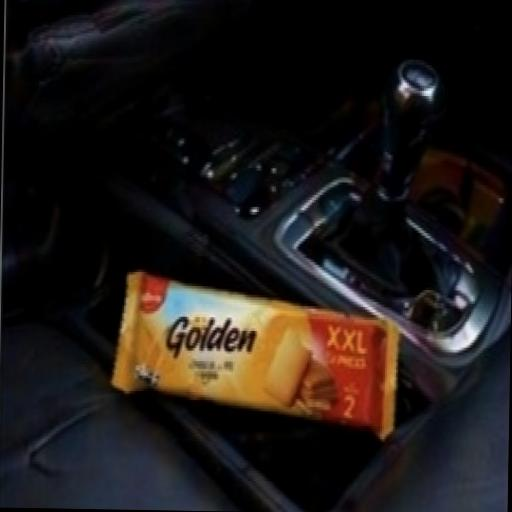golden: (84, 204, 438, 464)
